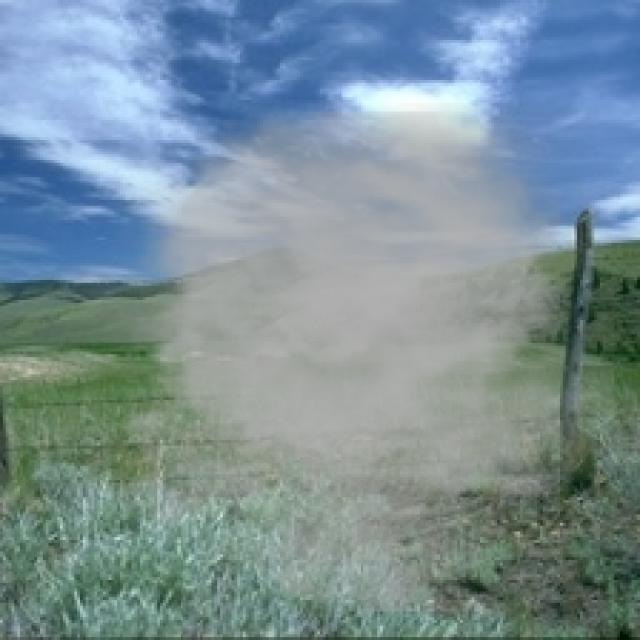Smoke: (55, 79, 614, 612)
